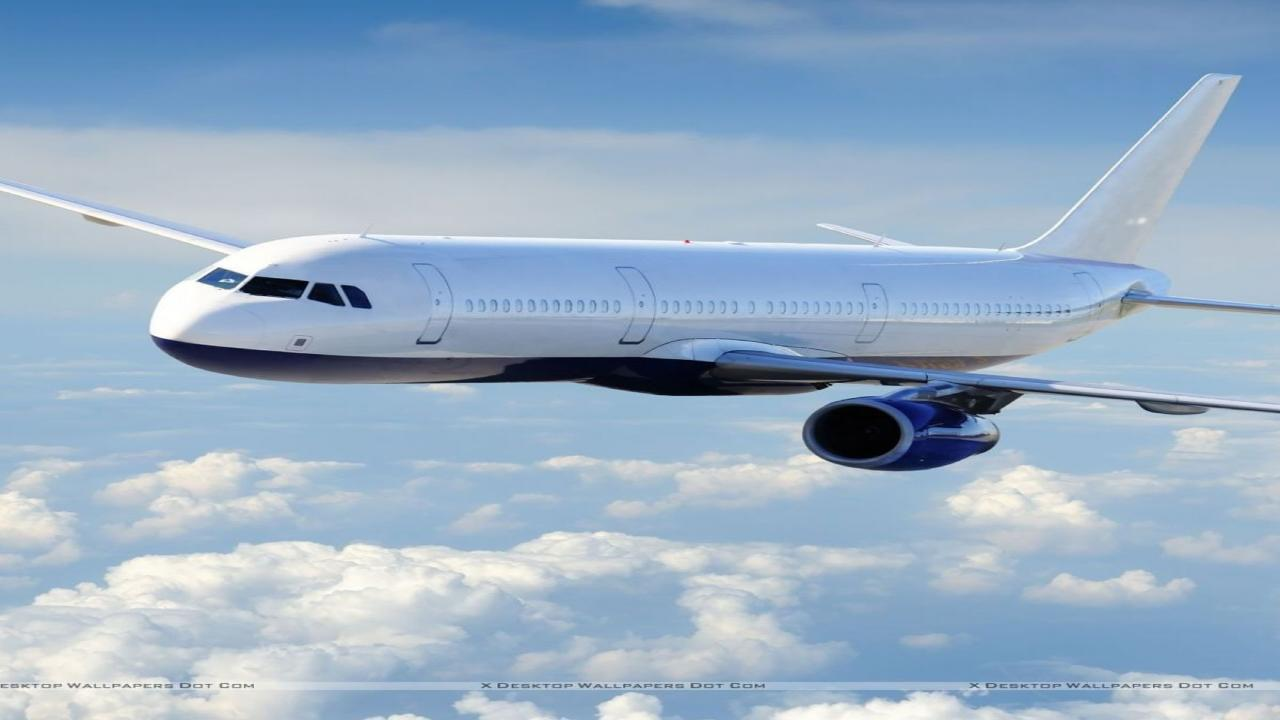Airplane: (0, 59, 1280, 484)
